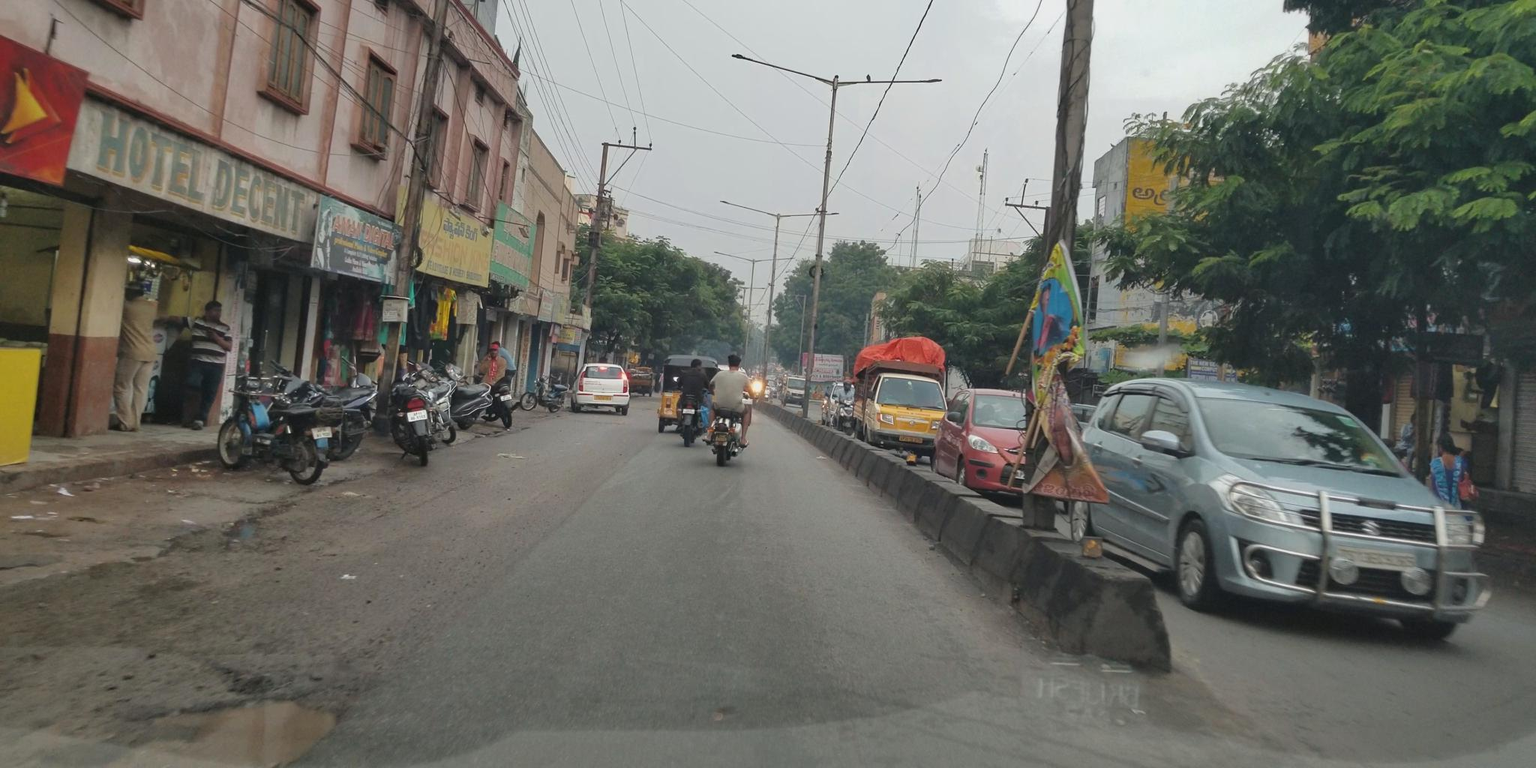streetlight: (692, 43, 839, 95), (820, 58, 966, 110), (766, 190, 854, 230), (699, 191, 788, 230), (742, 248, 800, 277), (705, 238, 745, 276)
